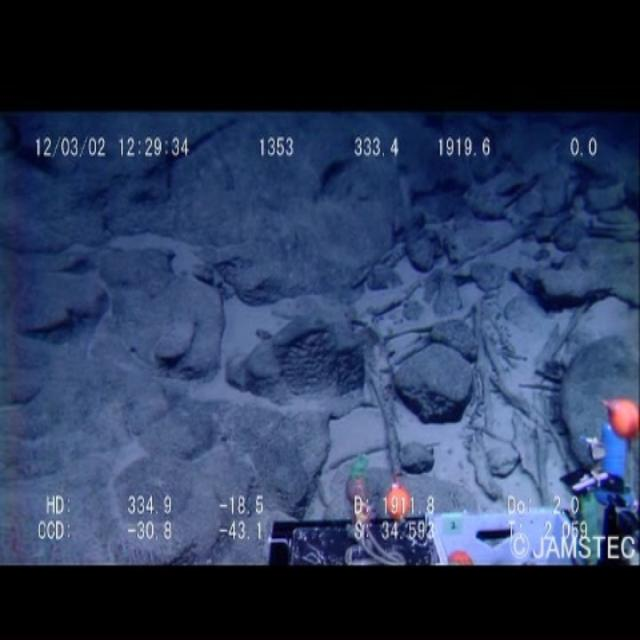Wood: (463, 266, 568, 521), (358, 281, 417, 478)
